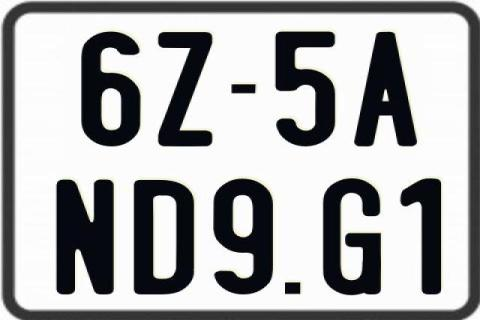0: (274, 30, 339, 146), (210, 177, 272, 297), (80, 31, 144, 146), (397, 177, 438, 295)
A: (351, 31, 419, 149)
D: (133, 179, 198, 293)
G: (321, 177, 380, 299)
N: (55, 180, 117, 296)
Z: (156, 32, 214, 150)
